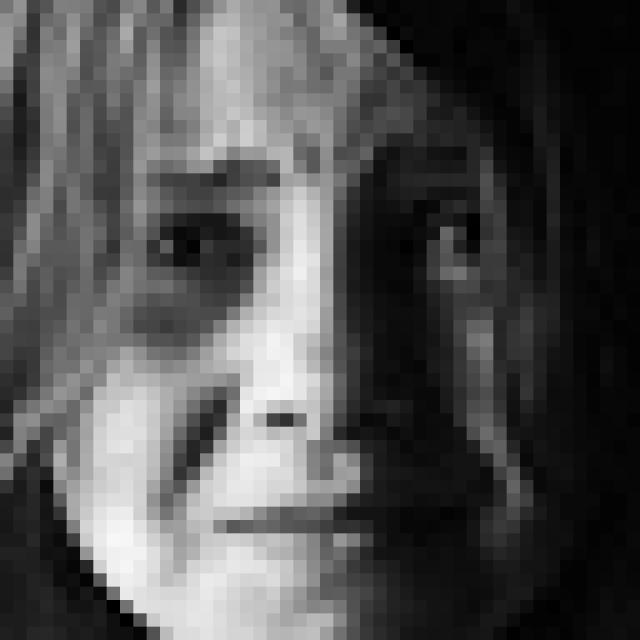sad: (116, 78, 501, 592)
